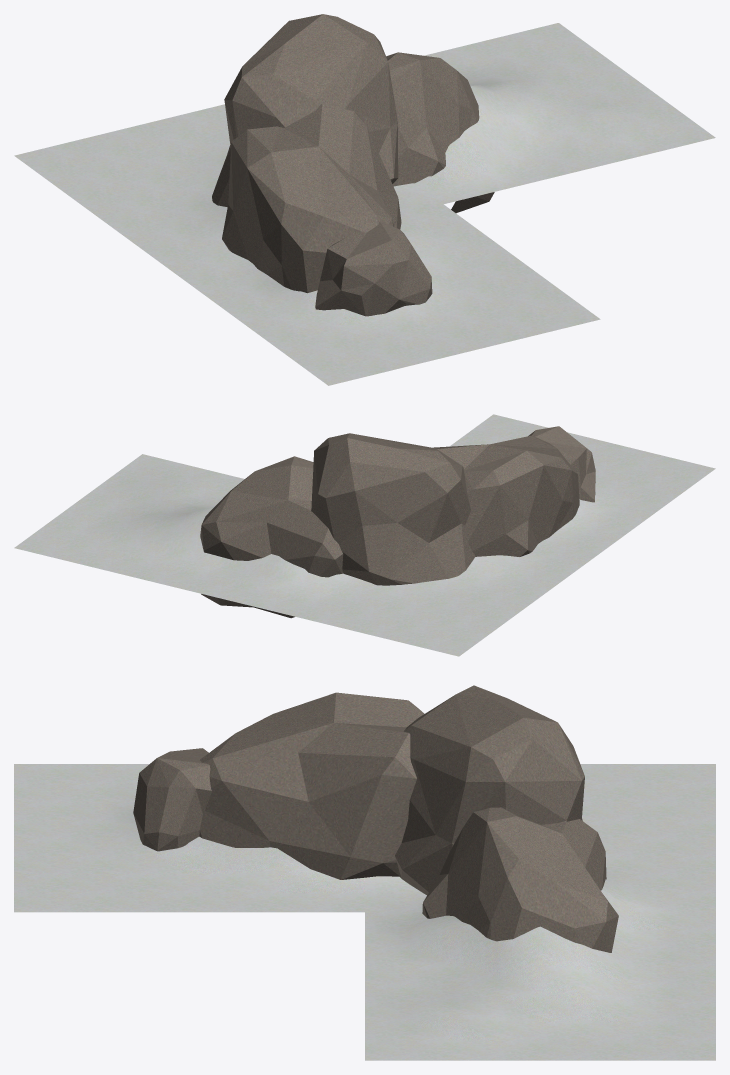
Rendered from corner_2.obj.
3 renders of one model, top to bottom at view 1: azimuth 30°, elevation 25°; view 2: azimuth 150°, elevation 25°; view 3: azimuth 270°, elevation 25°, orthographic. The views are drawn at different scales.
Visible parts, largest first — view 1: corner_2_Cube.002; view 2: corner_2_Cube.002; view 3: corner_2_Cube.002.
Boxes of the visible parts, bbox=[...] form: corner_2_Cube.002: bbox=[14, 14, 715, 385]; corner_2_Cube.002: bbox=[14, 414, 715, 656]; corner_2_Cube.002: bbox=[14, 685, 715, 1060].
Size of the model in its own units: 1024 by 382 by 1024.
